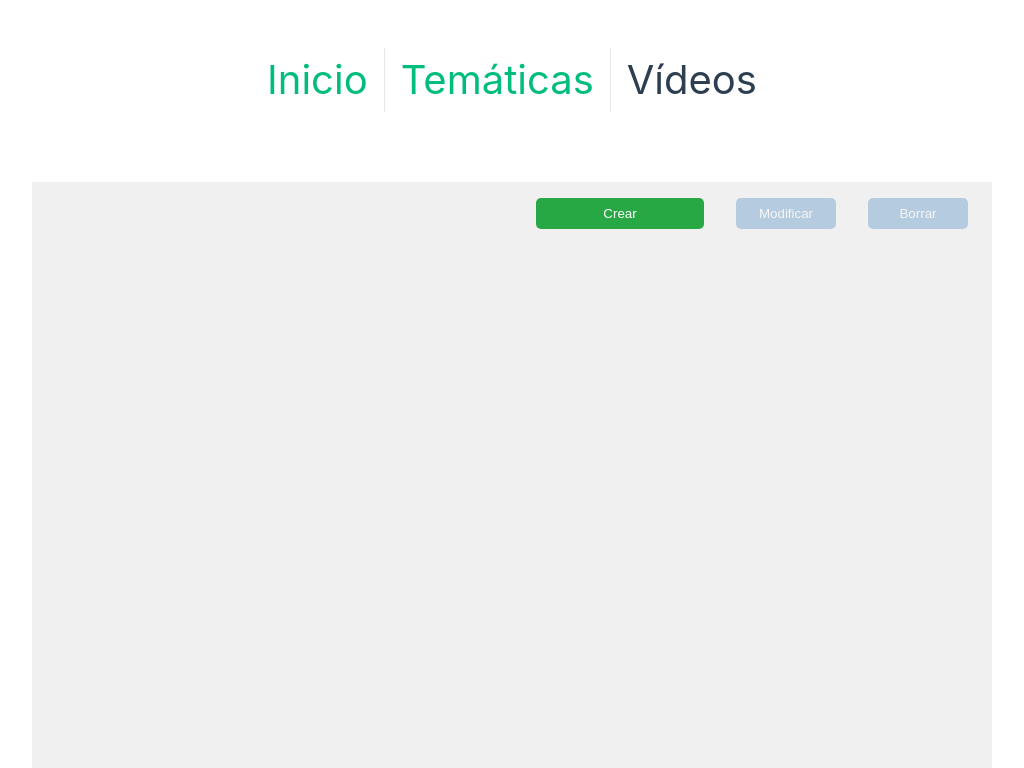
Test case: VideoView › debería mostrar el formulario de creación al hacer clic en "Crear"
The image size is (1024, 768).
// Haz clic en el botón "Crear"
Click the button "Crear" at (620, 214), box [536,198,704,229]
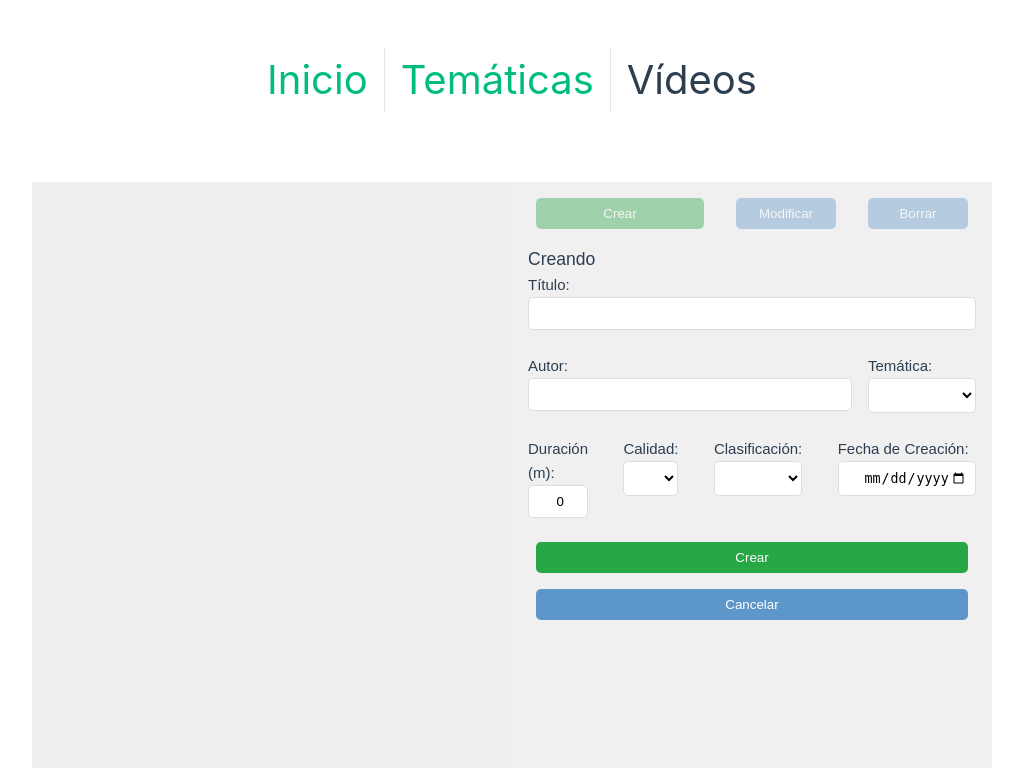
Expected: the element with class "form-container" is shown, [528,245,976,636]
